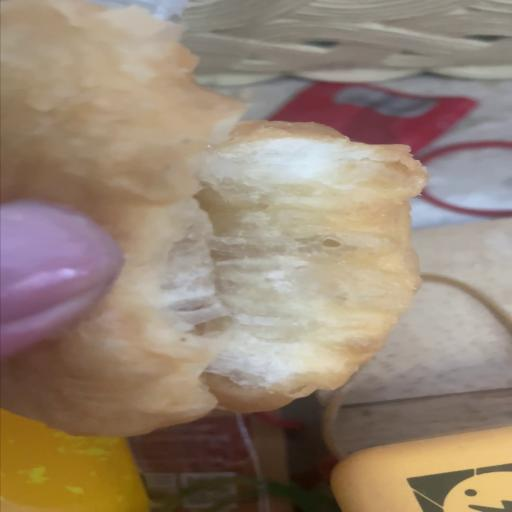street_golden_defect: (0, 0, 425, 434)
